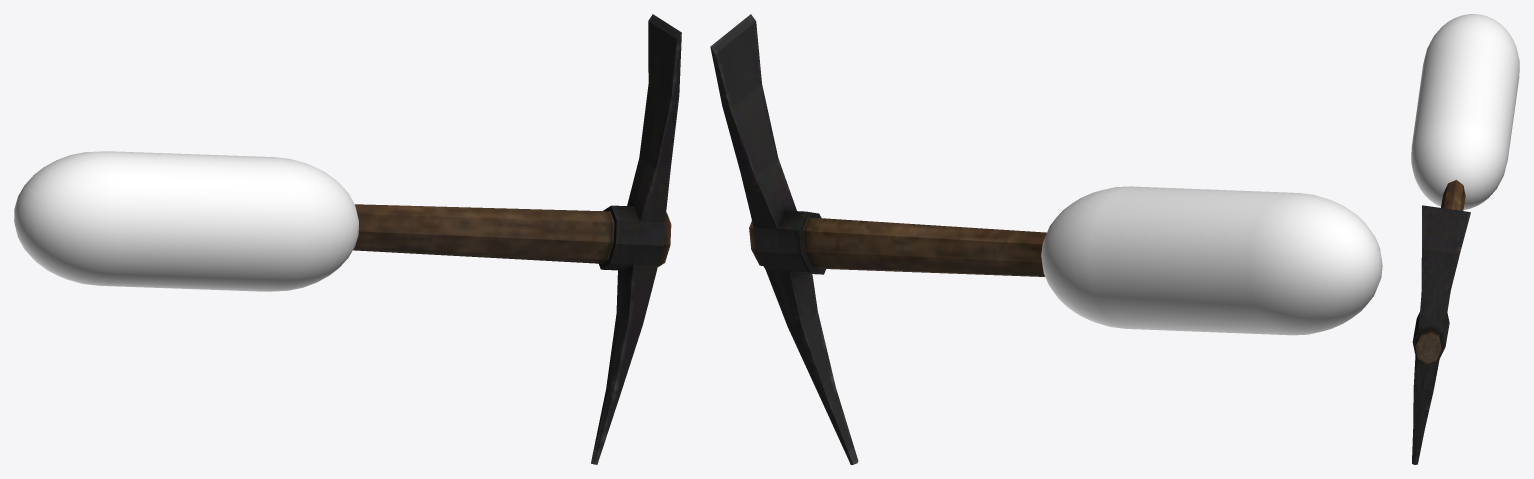
Rendered from PickAxeAnchor.fbx.
3 renders of one model, left to right at view 1: azimuth 30°, elevation 25°; view 2: azimuth 150°, elevation 25°; view 3: azimuth 270°, elevation 25°, orthographic. The views are drawn at different scales.
Parts seen in each view (by area): view 1: InteractionPoint, PickAxe_AtlasTarget; view 2: InteractionPoint, PickAxe_AtlasTarget; view 3: InteractionPoint, PickAxe_AtlasTarget.
Part boxes in pixels (<box>): InteractionPoint: <box>14,151,358,291</box>; PickAxe_AtlasTarget: <box>353,14,681,464</box>; InteractionPoint: <box>1041,186,1382,335</box>; PickAxe_AtlasTarget: <box>710,14,1046,464</box>; InteractionPoint: <box>1411,14,1519,209</box>; PickAxe_AtlasTarget: <box>1412,180,1470,464</box>.
Size of the model in its own units: 53.82 by 33.13 by 11.14.
